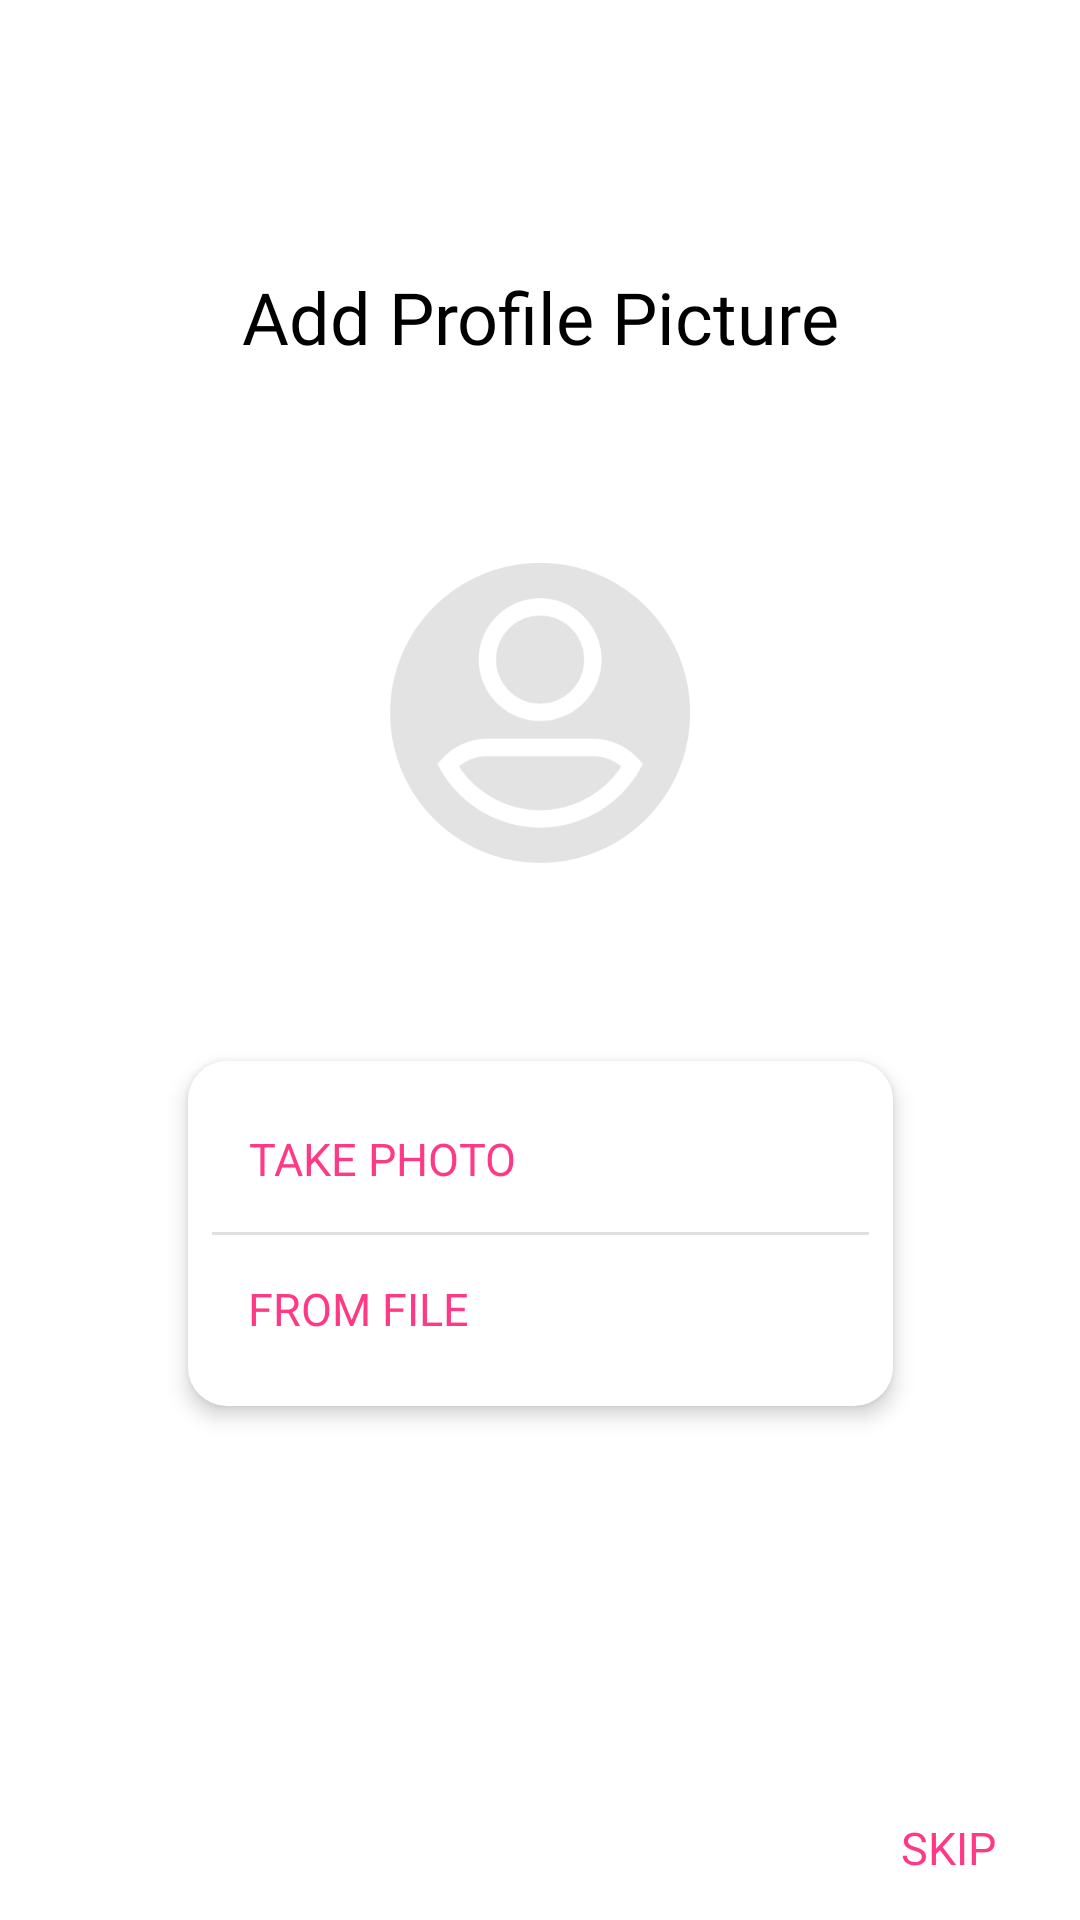

Screen size 1080px×1920px. Icon name, then its center in pixels as point (x, y):
user: point (540, 712)
